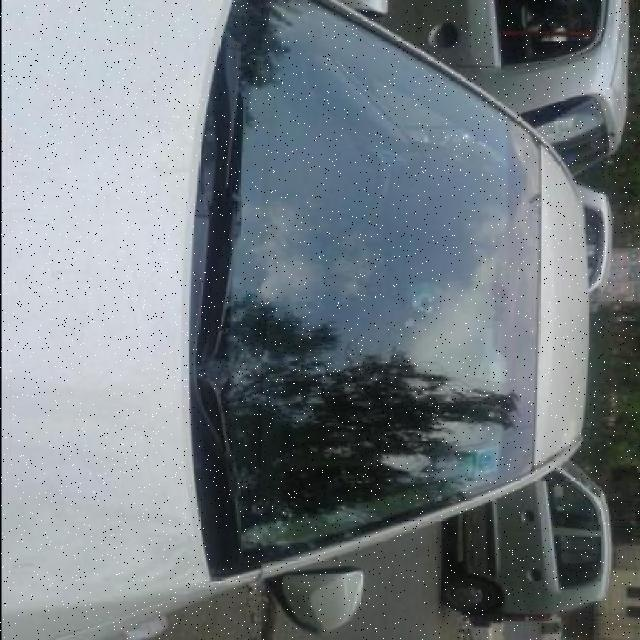damage: (383, 288, 444, 334)
